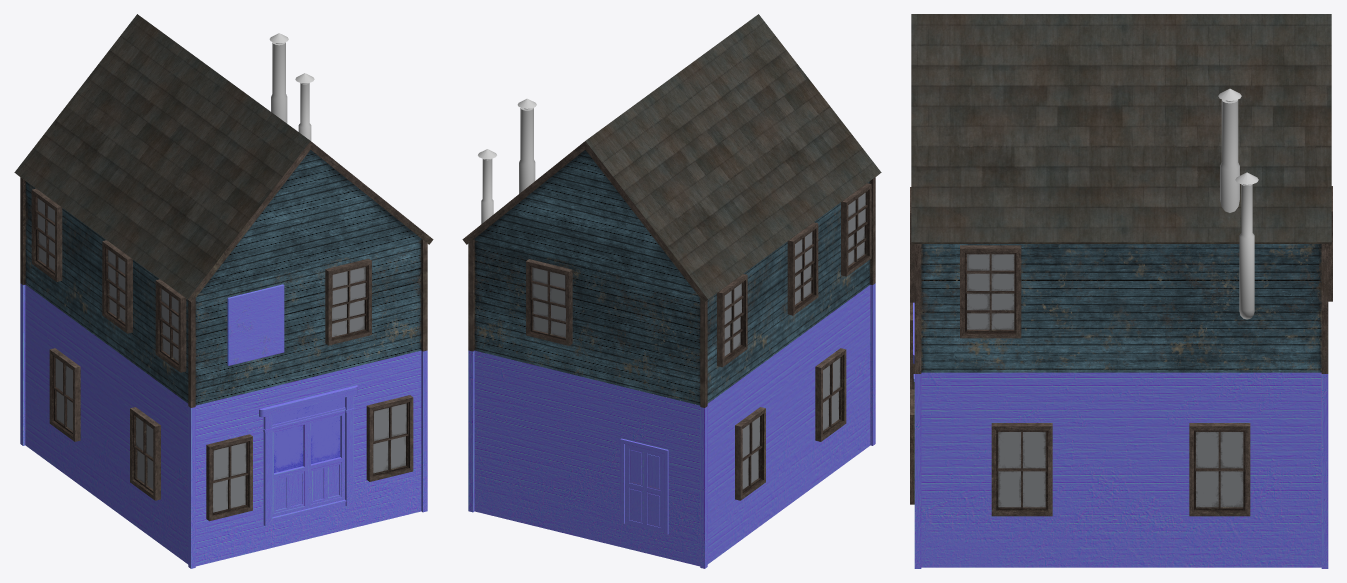
File: RoofTop_Background7.fbx
3 views of the same model, side by side, from view 1: azimuth 30°, elevation 25°; view 2: azimuth 150°, elevation 25°; view 3: azimuth 270°, elevation 25° (orthographic). The views are drawn at different scales.
Visible parts, largest first — view 1: t_002_br001_1, t_002_b001_2_1, t_002_b002_1_1, ad_002, window_001_3, window_001_1, window_002_4, window_001_4, window_002_4__1_, window_002_3, window_001_2, window_002_3__1_ (+2 smaller); view 2: t_002_br001_1, t_002_b001_2_1, t_002_b002_1_1, t002_door001, window_002_3__2_, window_001_2, window_002_3__1_, window_001_4, window_002_3, window_002_4__1_, chimney_1_3, chimney_1_1; view 3: t_002_br001_1, t_002_b001_2_1, t_002_b002_1_1, window_002_3__3_, window_001_3__1_, window_001_1__1_, chimney_1_3, chimney_1_1, window_001_3.
Part boxes in pixels (x1,y1,x2,y2): t_002_br001_1: (14,14,433,302); t_002_b001_2_1: (20,283,427,568); t_002_b002_1_1: (20,177,427,407); ad_002: (227,284,284,365); window_001_3: (366,395,413,481); window_001_1: (206,434,252,521); window_002_4: (325,258,371,345); window_001_4: (49,348,80,441); window_002_4__1_: (31,188,62,281); window_002_3: (155,279,186,372); window_001_2: (130,407,160,500); window_002_3__1_: (102,240,132,333); t_002_br001_1: (462,14,881,302); t_002_b001_2_1: (468,283,875,568); t_002_b002_1_1: (468,177,875,407); t002_door001: (620,438,668,534); window_002_3__2_: (526,259,572,345); window_001_2: (815,348,846,441); window_002_3__1_: (787,222,818,315); window_001_4: (735,407,765,500); window_002_3: (841,183,871,276); window_002_4__1_: (717,274,747,367); chimney_1_3: (517,98,536,193); chimney_1_1: (478,149,496,223); t_002_br001_1: (911,14,1331,245); t_002_b001_2_1: (913,302,1328,568); t_002_b002_1_1: (914,244,1328,373); window_002_3__3_: (960,245,1021,338); window_001_3__1_: (1189,423,1250,516); window_001_1__1_: (991,423,1052,516); chimney_1_3: (1218,88,1241,212); chimney_1_1: (1235,172,1258,319); window_001_3: (910,389,914,504).
Size of the model in its own units: 882 by 1277 by 1009.
